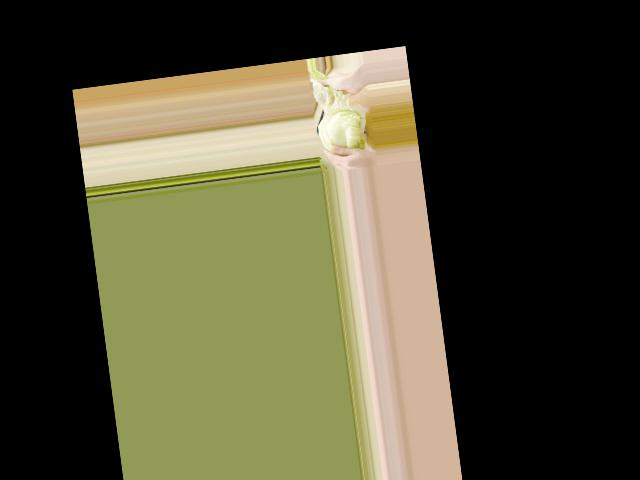lettuce: (312, 92, 373, 159)
